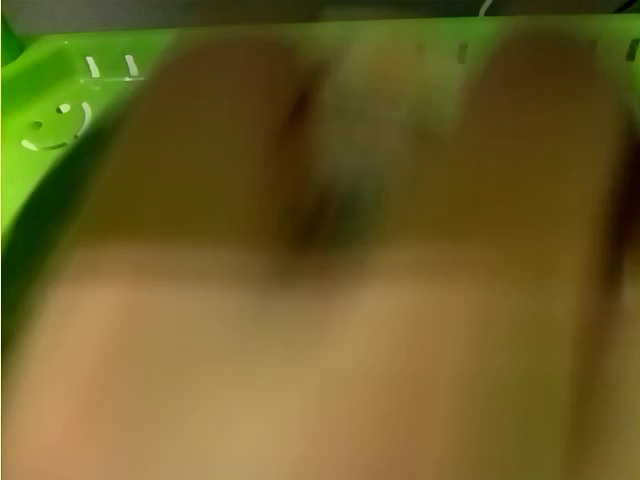hand: (6, 31, 640, 480)
